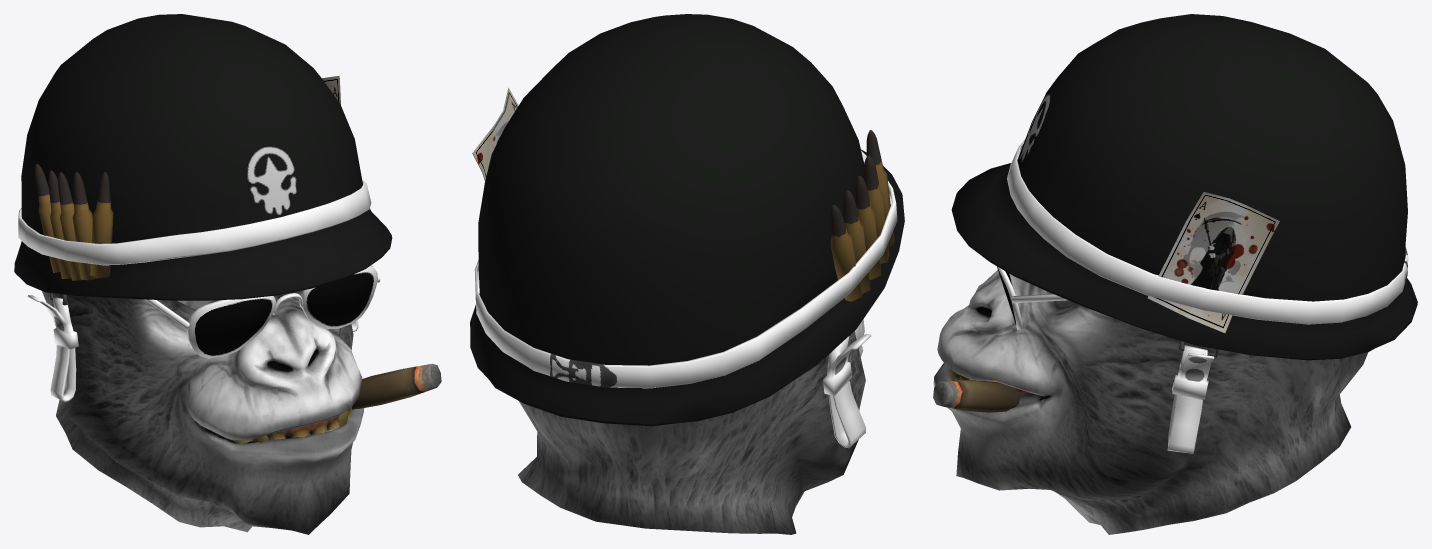
File: SurvivorMale_Head_Mask_Ape_LOD0.glb
The picture shows the model from 3 angles, left to right: view 1: azimuth 30°, elevation 25°; view 2: azimuth 150°, elevation 25°; view 3: azimuth 270°, elevation 25°; orthographic projection. The views are drawn at different scales.
Visible parts, largest first — view 1: Hoodie; view 2: Hoodie; view 3: Hoodie.
Part boxes in pixels (x1,y1,x2,y2): Hoodie: (14,14,441,534); Hoodie: (470,14,904,534); Hoodie: (933,14,1417,534).
Bounding box in the file's own units: 0.246 × 0.334 × 0.2978.
1 material, 1 textured.
